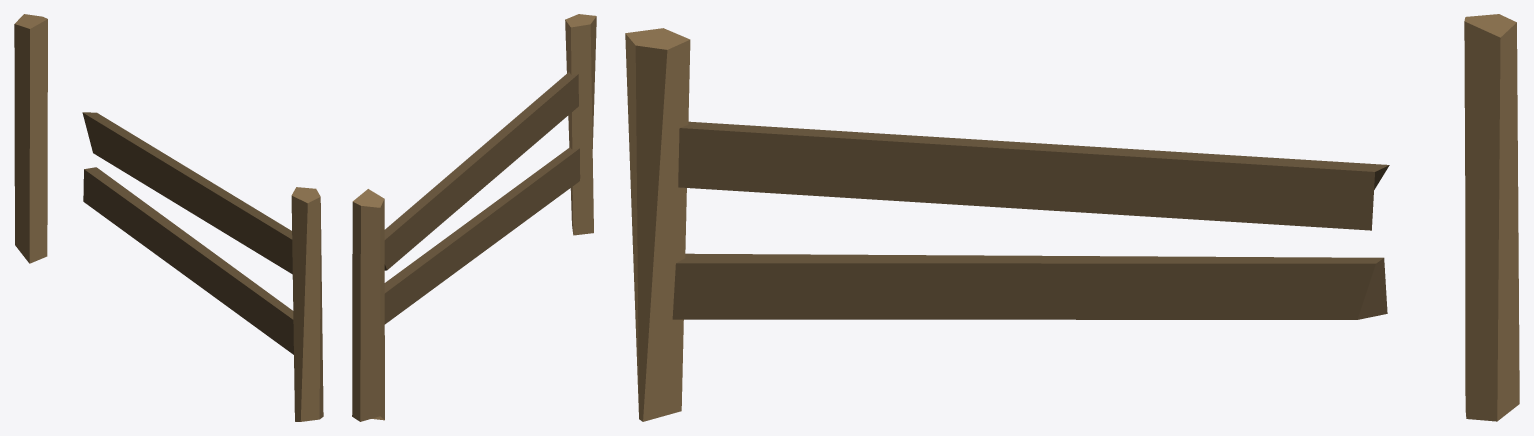
Rendered from fence peices.glb.
3 renders of one model, left to right at view 1: azimuth 30°, elevation 25°; view 2: azimuth 150°, elevation 25°; view 3: azimuth 270°, elevation 25°, orthographic. The views are drawn at different scales.
Parts seen in each view (by area): view 1: fence segment, fence post; view 2: fence segment, fence post; view 3: fence segment, fence post.
Part boxes in pixels (box(x1,y1,x2,y2)): fence segment: box(82, 112, 323, 421); fence post: box(14, 14, 47, 263); fence segment: box(384, 14, 596, 324); fence post: box(352, 189, 384, 421); fence segment: box(625, 28, 1389, 421); fence post: box(1464, 14, 1519, 421).
Bounding box in the file's own units: 1.58 × 6.87 × 13.84.
